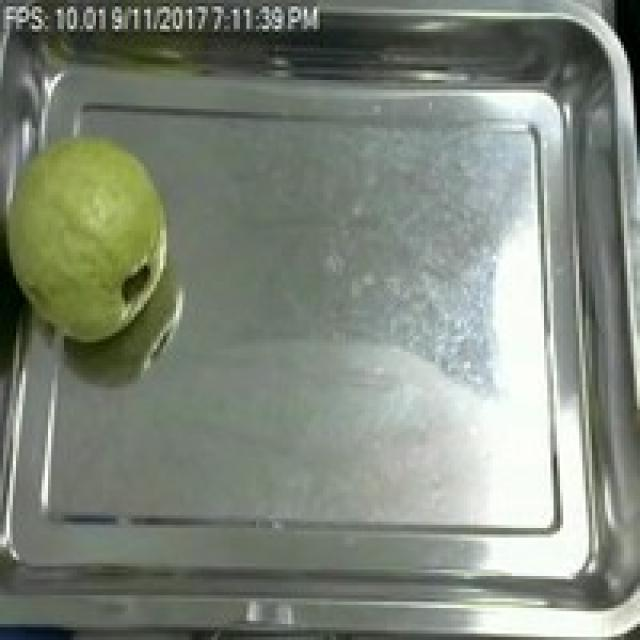Fruit: (0, 115, 189, 355)
